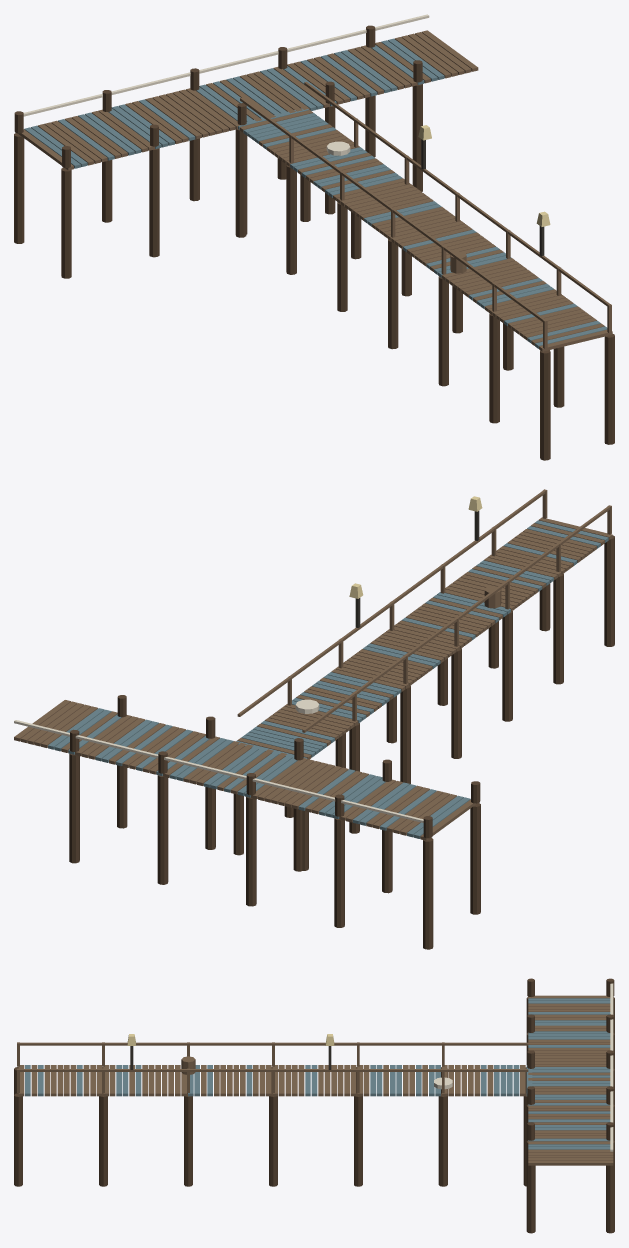
File: ahsap-iskele-t.glb
3 views of the same model, one above another, from view 1: azimuth 30°, elevation 25°; view 2: azimuth 150°, elevation 25°; view 3: azimuth 270°, elevation 25° (orthographic). The views are drawn at different scales.
Visible parts, largest first — view 1: ahsap, ahsap_koyu, deniz_ahsap, ip; view 2: ahsap, ahsap_koyu, deniz_ahsap, ip; view 3: ahsap, deniz_ahsap, ahsap_koyu, ip.
Part boxes in pixels (bbox=[...]): ahsap: bbox=[18, 30, 612, 351]; ahsap_koyu: bbox=[14, 25, 614, 460]; deniz_ahsap: bbox=[24, 38, 607, 348]; ip: bbox=[23, 14, 429, 155]; ahsap: bbox=[14, 489, 612, 840]; ahsap_koyu: bbox=[69, 535, 614, 949]; deniz_ahsap: bbox=[48, 520, 608, 838]; ip: bbox=[14, 699, 423, 822]; ahsap: bbox=[17, 995, 613, 1165]; deniz_ahsap: bbox=[25, 998, 610, 1149]; ahsap_koyu: bbox=[14, 978, 614, 1233]; ip: bbox=[434, 983, 613, 1151].
Bounding box in the file's own units: 14.16 × 5.85 × 21.22.
